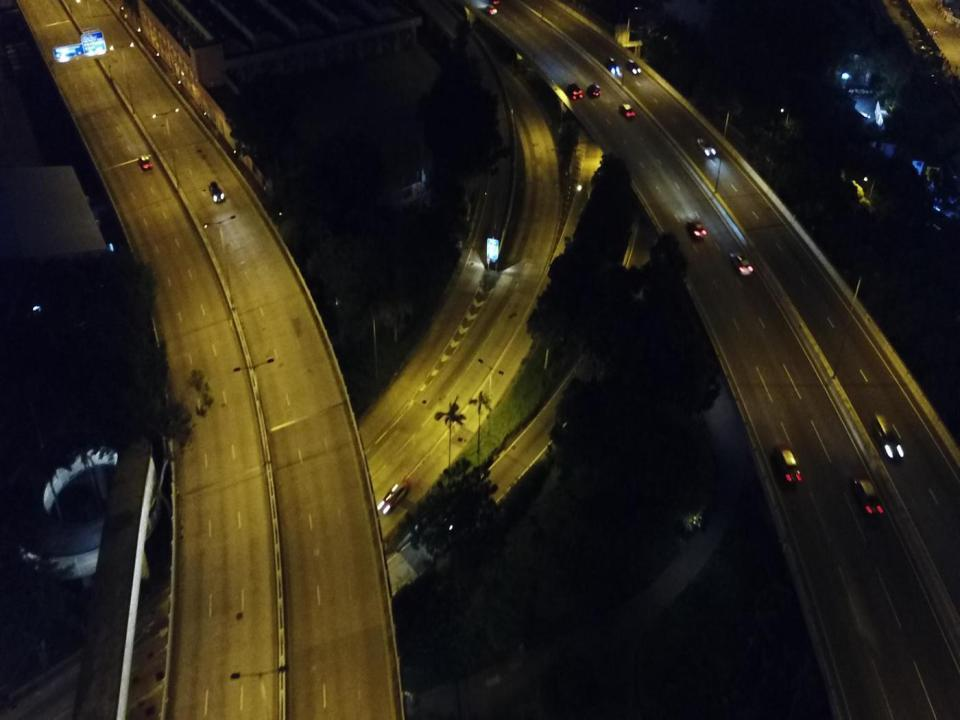car: (852, 475, 882, 515), (378, 478, 410, 512), (774, 443, 800, 483), (730, 251, 752, 276), (686, 216, 706, 238), (208, 181, 224, 202), (698, 138, 716, 156), (566, 83, 583, 99), (618, 103, 635, 119), (605, 56, 619, 72), (138, 155, 152, 170), (627, 59, 640, 74), (587, 84, 601, 97), (485, 4, 498, 16)
van: (873, 414, 904, 460)
